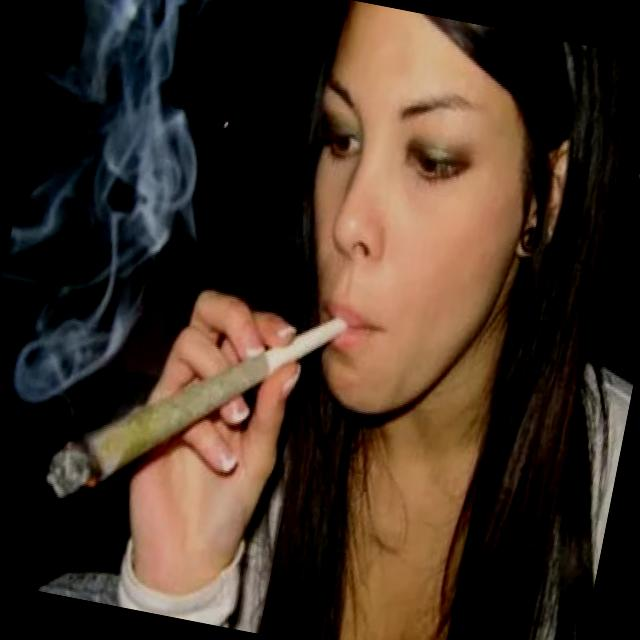cigarette: (39, 264, 354, 550)
